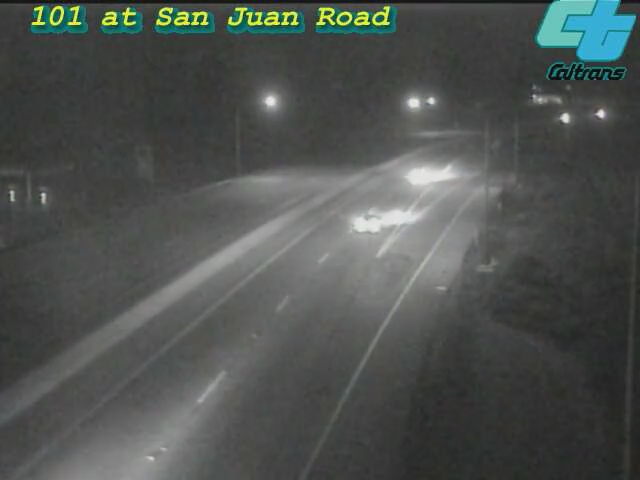vehicle: (381, 136, 461, 216), (328, 180, 408, 260), (540, 93, 590, 143), (575, 90, 625, 140)
